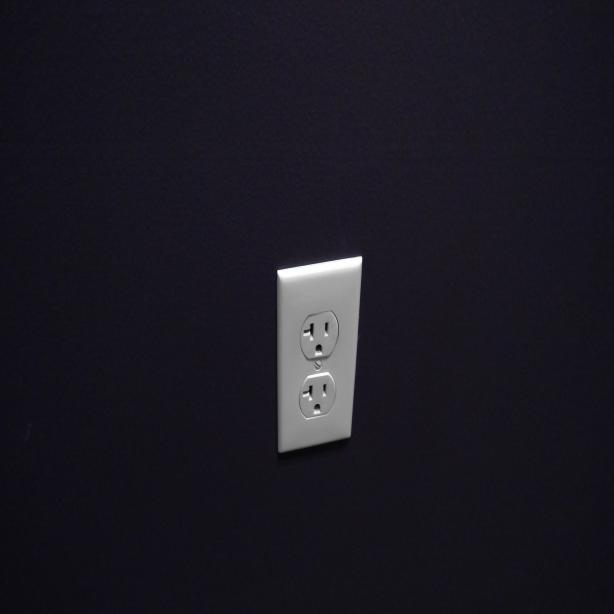typeb: (299, 312, 336, 361), (300, 375, 332, 422)
